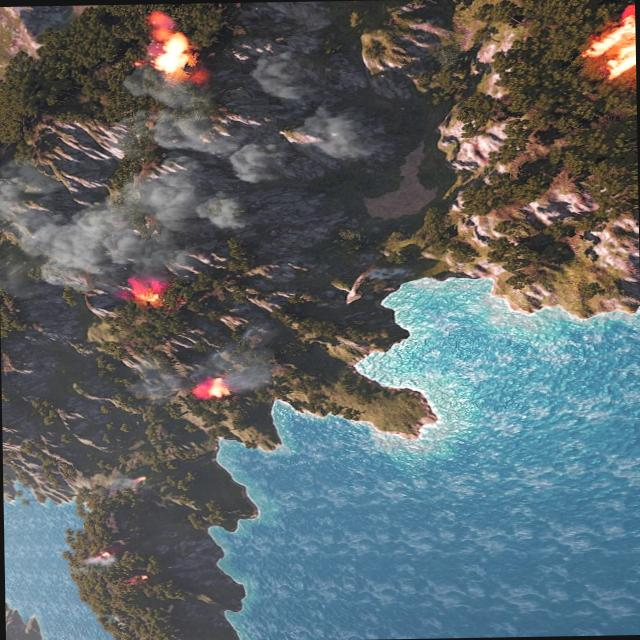fire: (580, 3, 636, 79), (150, 30, 197, 74), (125, 278, 163, 304), (208, 379, 228, 395), (123, 573, 148, 583), (135, 474, 147, 480), (100, 550, 110, 556)
smoke: (0, 52, 377, 288), (123, 325, 276, 400), (144, 7, 178, 42), (82, 548, 116, 566), (111, 472, 147, 486)
